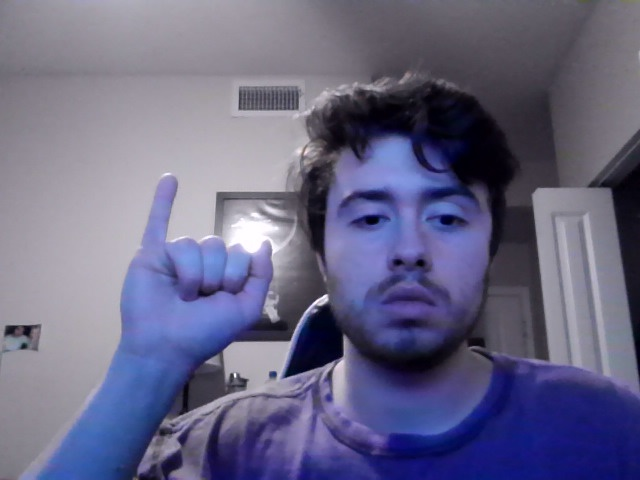i: (119, 172, 275, 382)
